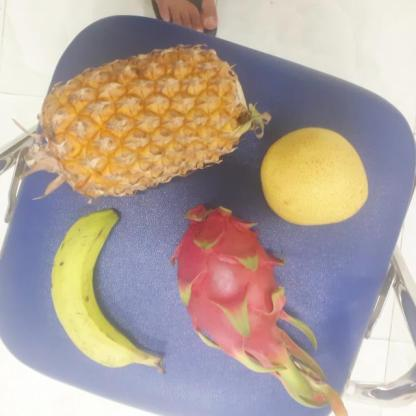banana: (48, 210, 159, 367)
pear: (257, 128, 369, 224)
pineapple: (36, 45, 251, 201)
pitaya: (166, 214, 294, 356)
